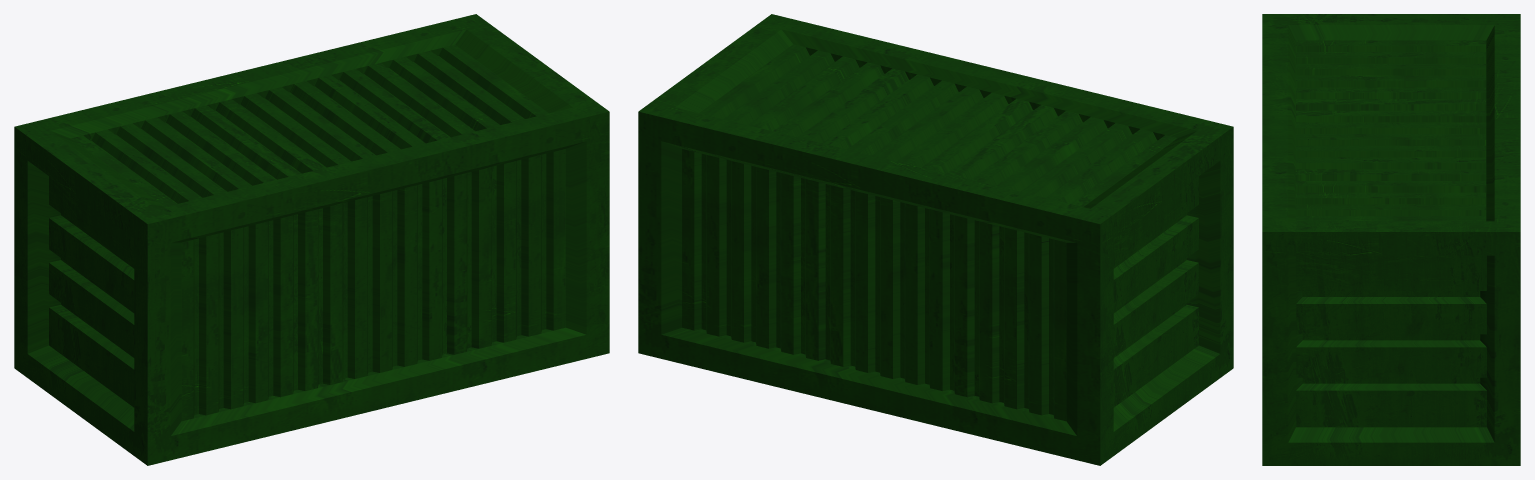
File: containner 1.fbx
3 renders of one model, left to right at view 1: azimuth 30°, elevation 25°; view 2: azimuth 150°, elevation 25°; view 3: azimuth 270°, elevation 25°, orthographic. The views are drawn at different scales.
Visible parts, largest first — view 1: Containner; view 2: Containner; view 3: Containner.
Part boxes in pixels (x1,y1,x2,y2): Containner: (14,14,609,465); Containner: (638,14,1233,465); Containner: (1262,14,1520,465).
Size of the model in its own units: 1.62 by 0.811 by 0.811.
